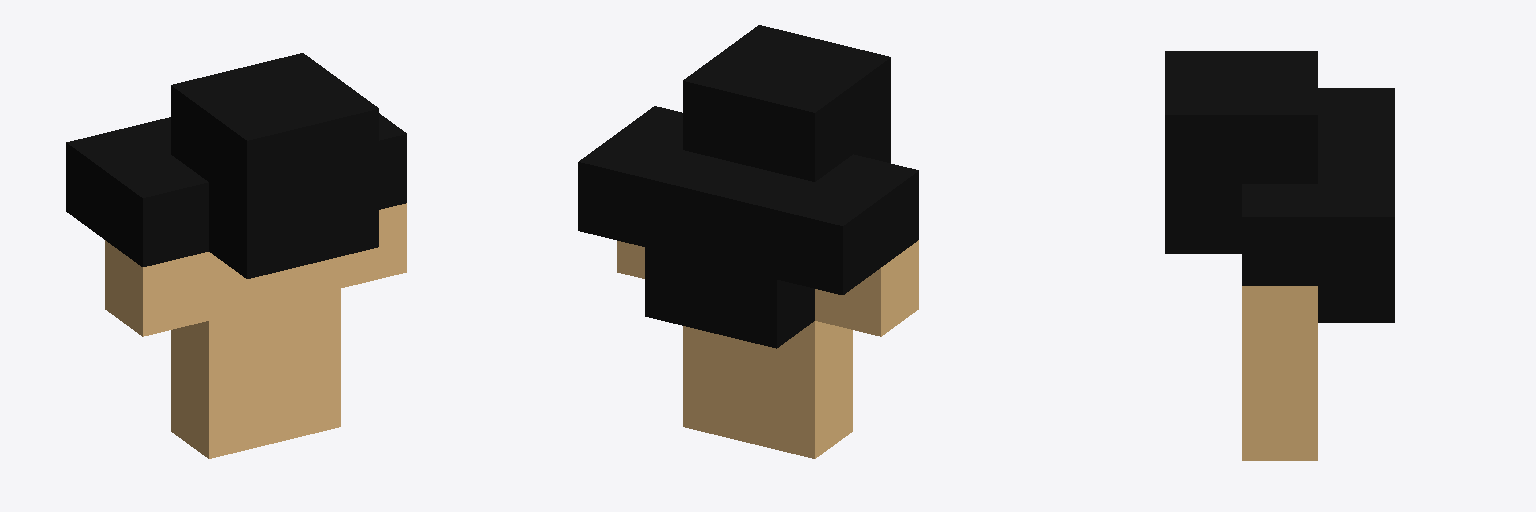
3 renders of one model, left to right at view 1: azimuth 30°, elevation 25°; view 2: azimuth 150°, elevation 25°; view 3: azimuth 270°, elevation 25°, orthographic.
Bounding box in the file's own units: 4 × 5 × 3.
1 materials, 1 textured.